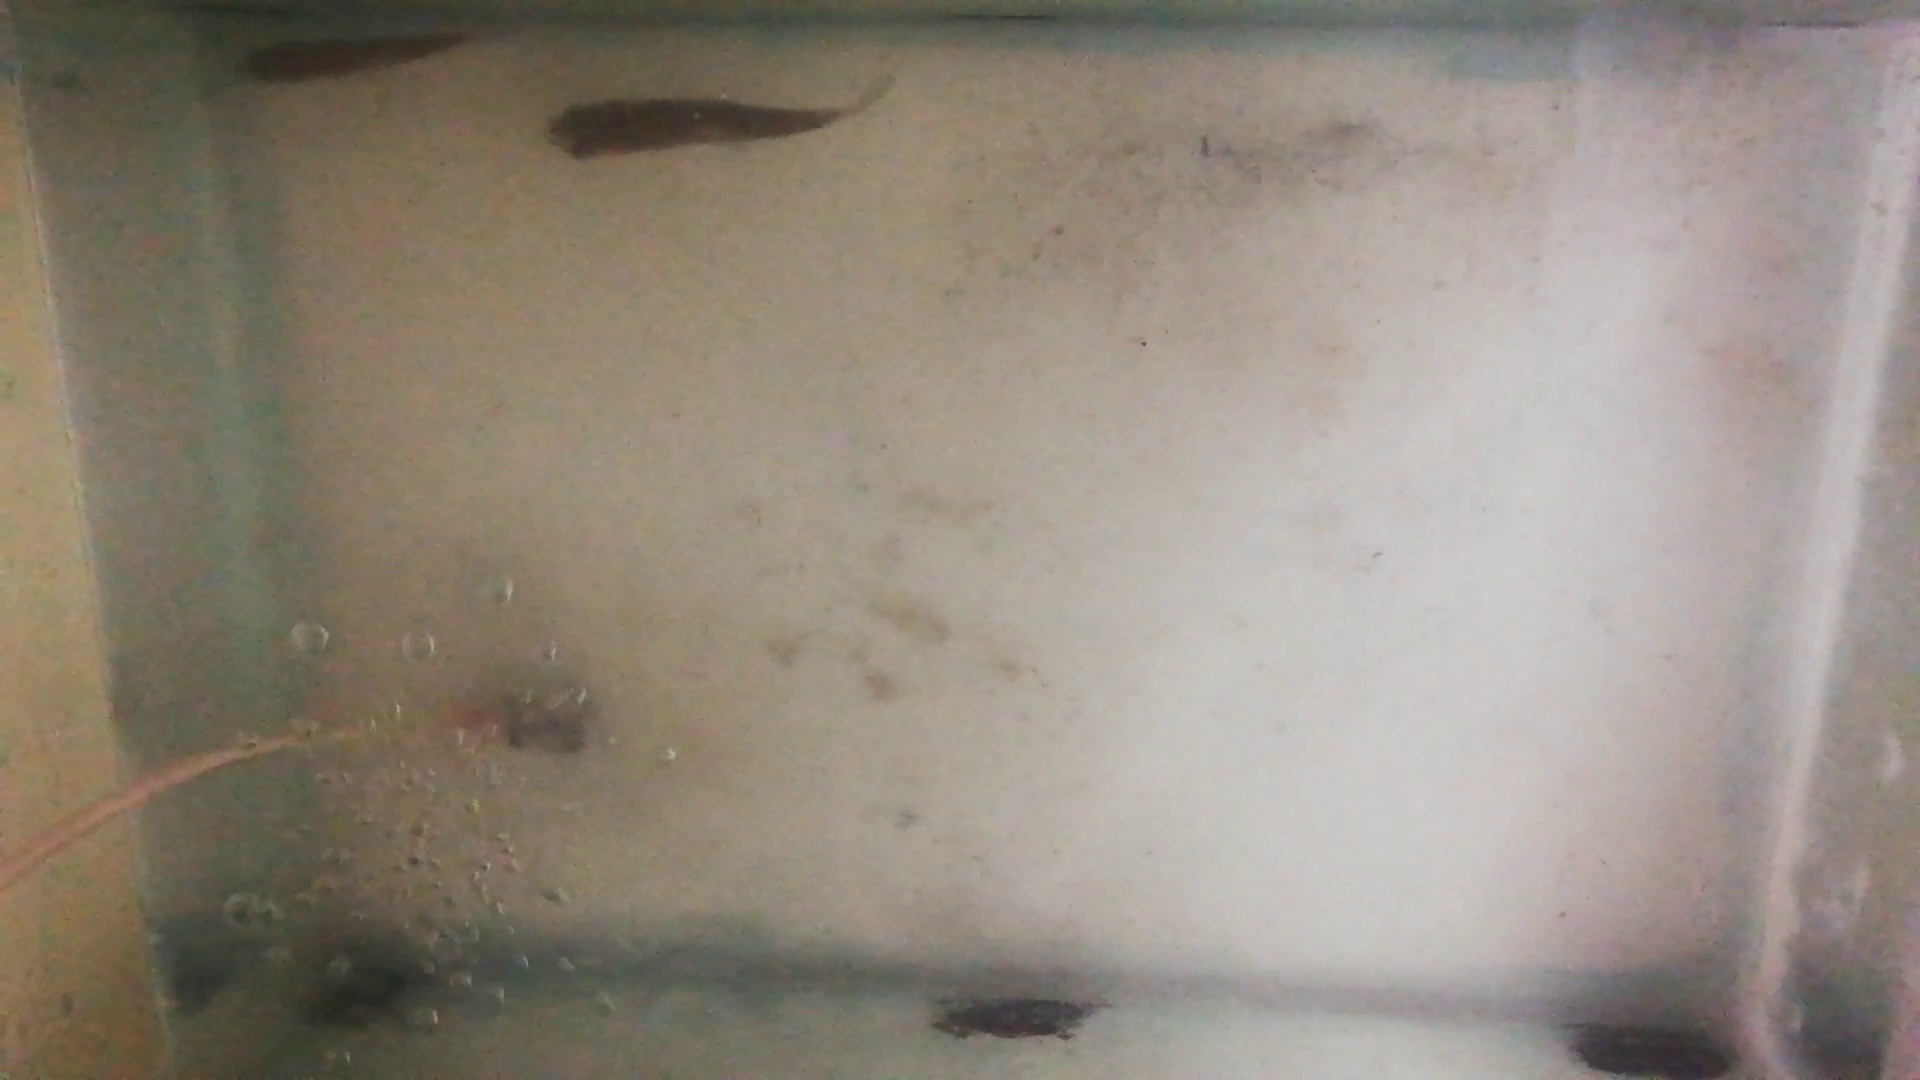fish: (546, 99, 836, 164), (237, 34, 468, 82)
